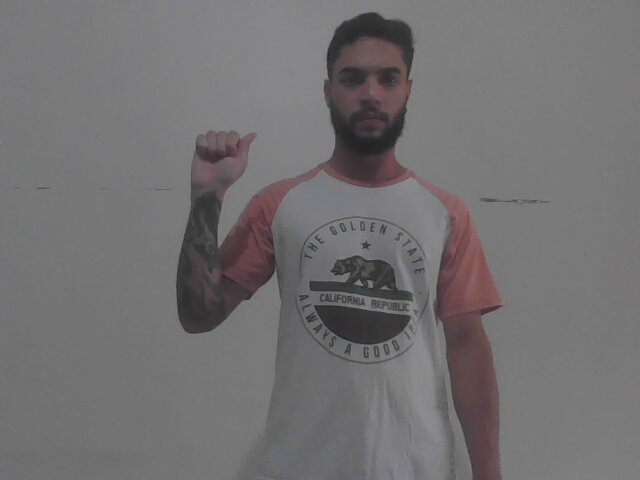a: (185, 127, 265, 199)
